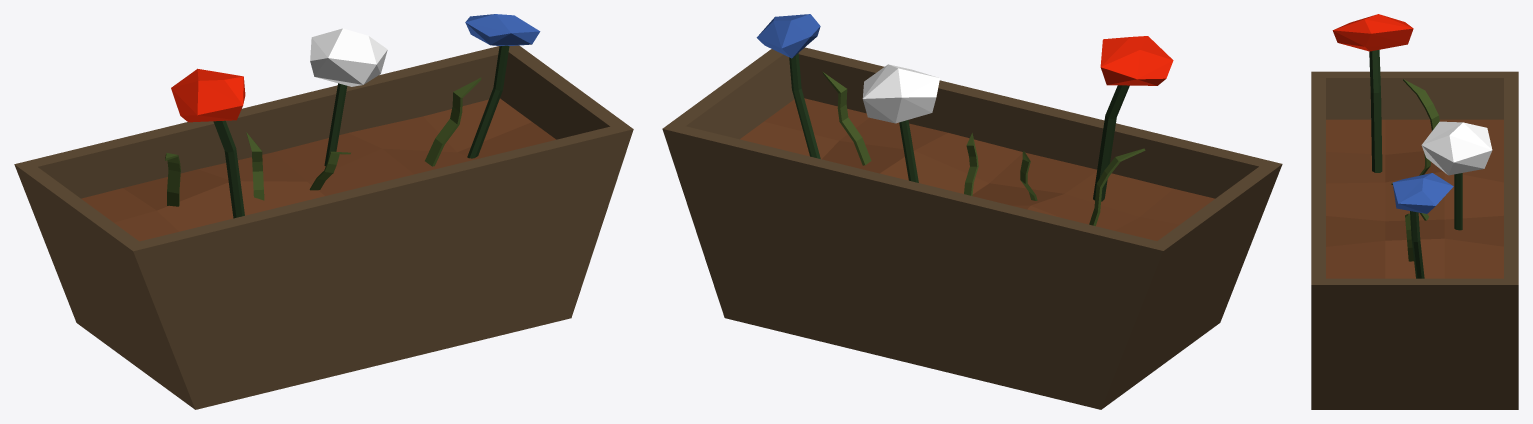
Rendered from FlowerPot_1.fbx.
The picture shows the model from 3 angles, left to right: view 1: azimuth 30°, elevation 25°; view 2: azimuth 150°, elevation 25°; view 3: azimuth 270°, elevation 25°; orthographic projection. The views are drawn at different scales.
Parts seen in each view (by area): view 1: FlowerPot_1; view 2: FlowerPot_1; view 3: FlowerPot_1.
Part boxes in pixels (bbox=[...]): FlowerPot_1: bbox=[14, 14, 633, 409]; FlowerPot_1: bbox=[662, 14, 1282, 409]; FlowerPot_1: bbox=[1311, 14, 1518, 409].
Size of the model in its own units: 121 by 67.92 by 49.93.
